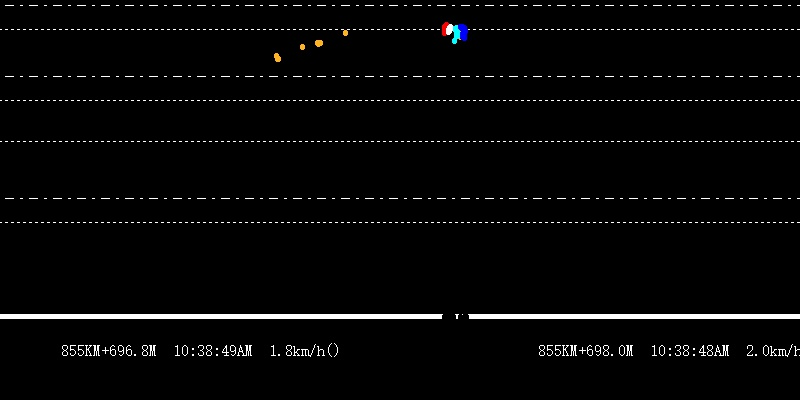face_2: (442, 15, 468, 46)
face_down: (312, 27, 326, 51)
